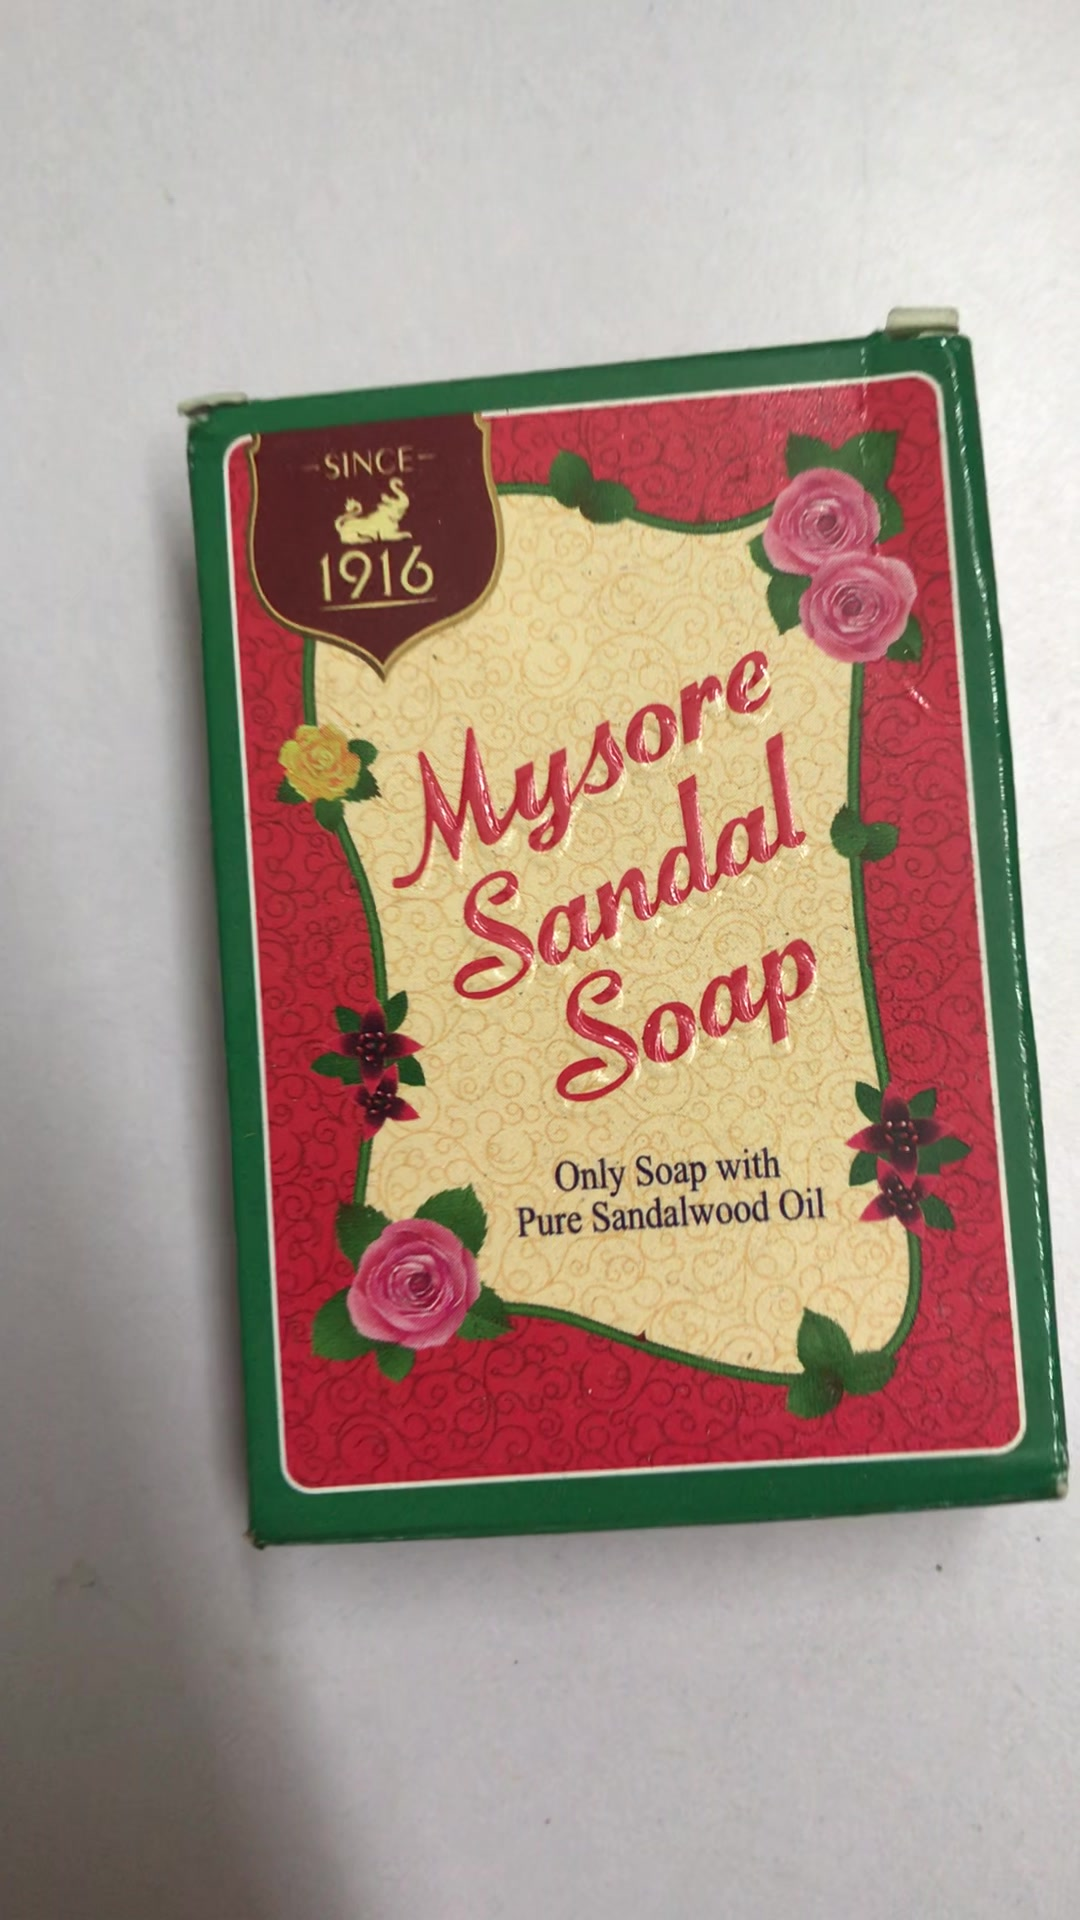mysore sandal soap: (186, 334, 1080, 1548)
